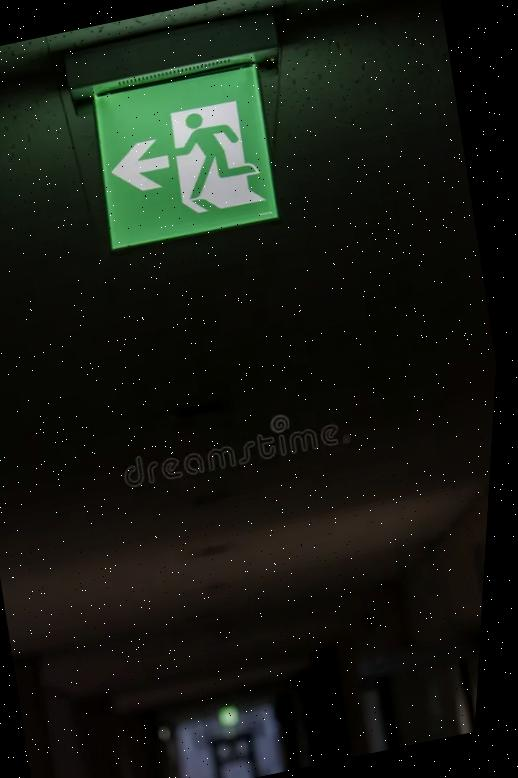emergency_exit: (90, 55, 281, 252)
